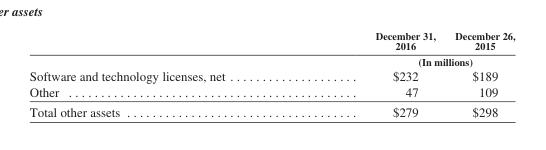table: (28, 29, 514, 119)
table column: (28, 29, 299, 119), (299, 29, 444, 119), (444, 29, 514, 119)
table column header: (28, 29, 514, 67)
table row: (28, 29, 514, 53), (28, 83, 514, 101), (28, 101, 514, 119), (28, 67, 514, 83), (28, 53, 514, 67)
table spanning cell: (299, 53, 514, 67)
